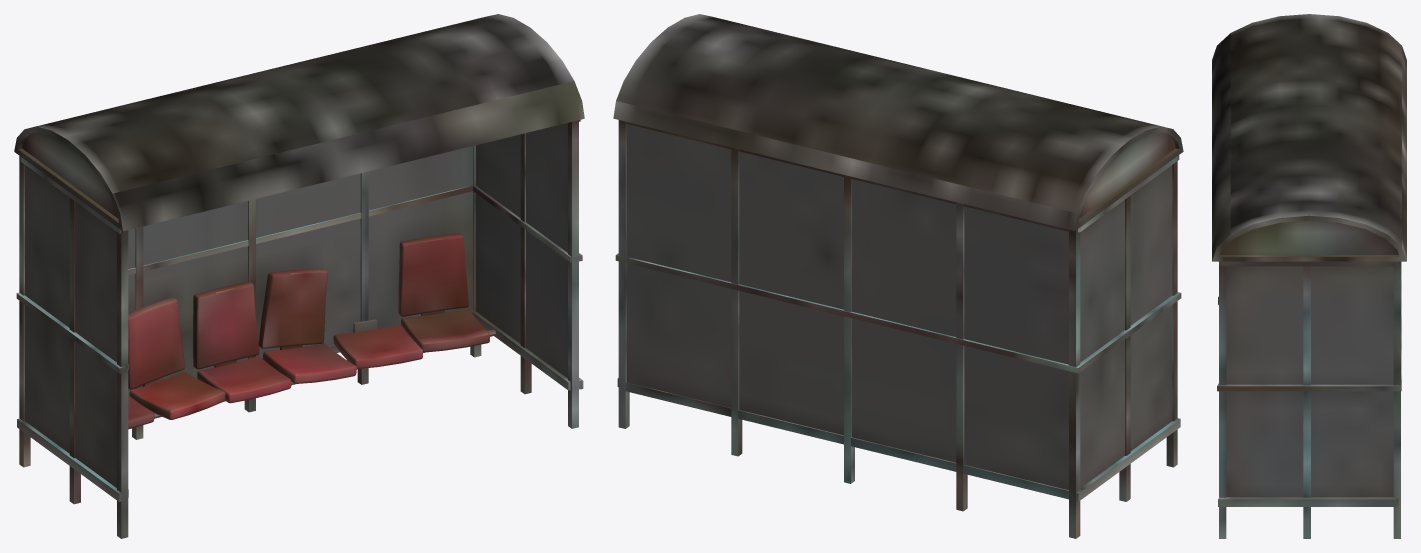
The model's file is shelter_332.glb.
3 views of the same model, side by side, from view 1: azimuth 30°, elevation 25°; view 2: azimuth 150°, elevation 25°; view 3: azimuth 270°, elevation 25° (orthographic). The views are drawn at different scales.
Visible parts, largest first — view 1: shelter_332; view 2: shelter_332; view 3: shelter_332.
Part boxes in pixels (x1,y1,x2,y2): shelter_332: (14, 14, 584, 538); shelter_332: (613, 14, 1183, 538); shelter_332: (1212, 14, 1406, 538).
Size of the model in its own units: 3.49 by 2.6 by 1.42.
1 material, 1 textured.
